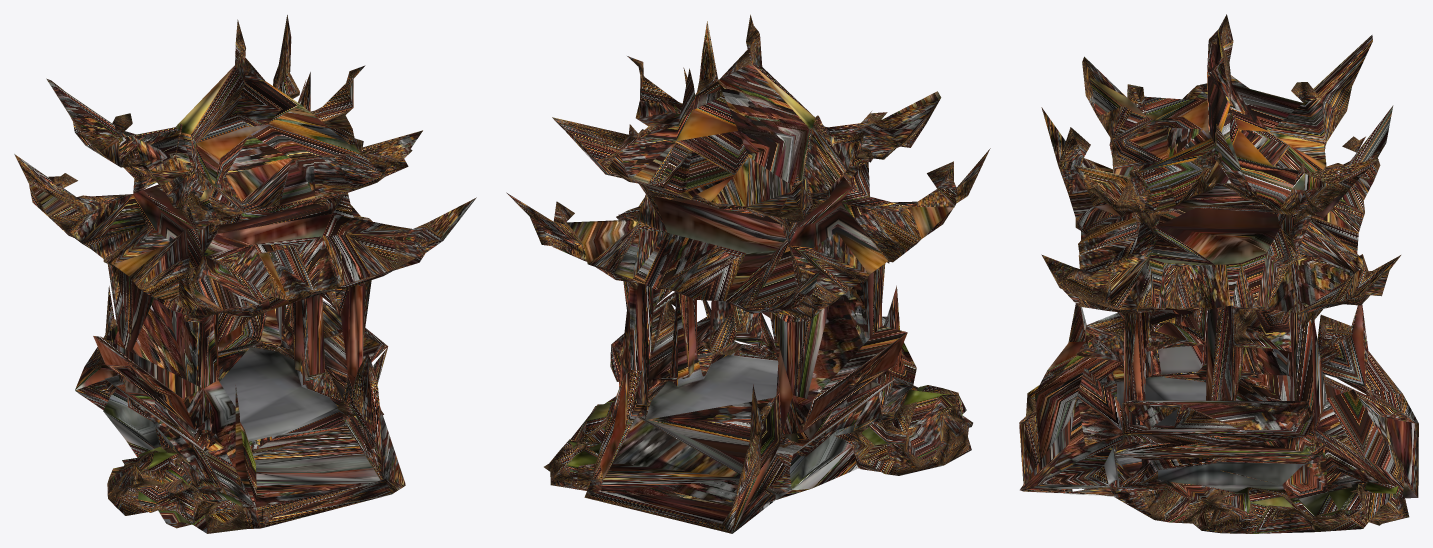
File: bq_stage.far.glb
3 views of the same model, side by side, from view 1: azimuth 30°, elevation 25°; view 2: azimuth 150°, elevation 25°; view 3: azimuth 270°, elevation 25° (orthographic). The views are drawn at different scales.
Bounding box in the file's own units: 1.53 × 1.9 × 1.54.
Materials: 1 (1 with a texture image).
